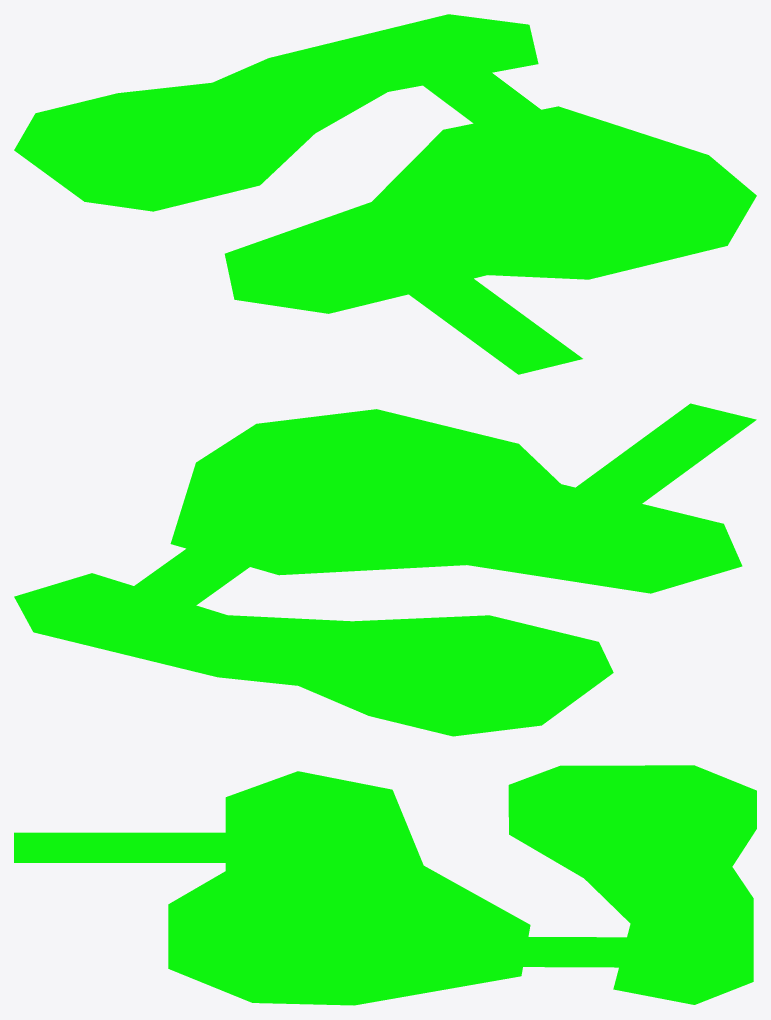
Rendered from s05b_nb2-floor.glb.
3 views of the same model, one above another, from view 1: azimuth 30°, elevation 25°; view 2: azimuth 150°, elevation 25°; view 3: azimuth 270°, elevation 25° (orthographic). The views are drawn at different scales.
Visible parts, largest first — view 1: collision_floor-colonly; view 2: collision_floor-colonly; view 3: collision_floor-colonly.
Boxes of the visible parts, left/top/right/bottom form: collision_floor-colonly: left=14, top=14, right=756, bottom=374; collision_floor-colonly: left=14, top=403, right=756, bottom=736; collision_floor-colonly: left=14, top=765, right=756, bottom=1005.
Size of the model in its own units: 47.66 by 0.1016 by 62.34.
